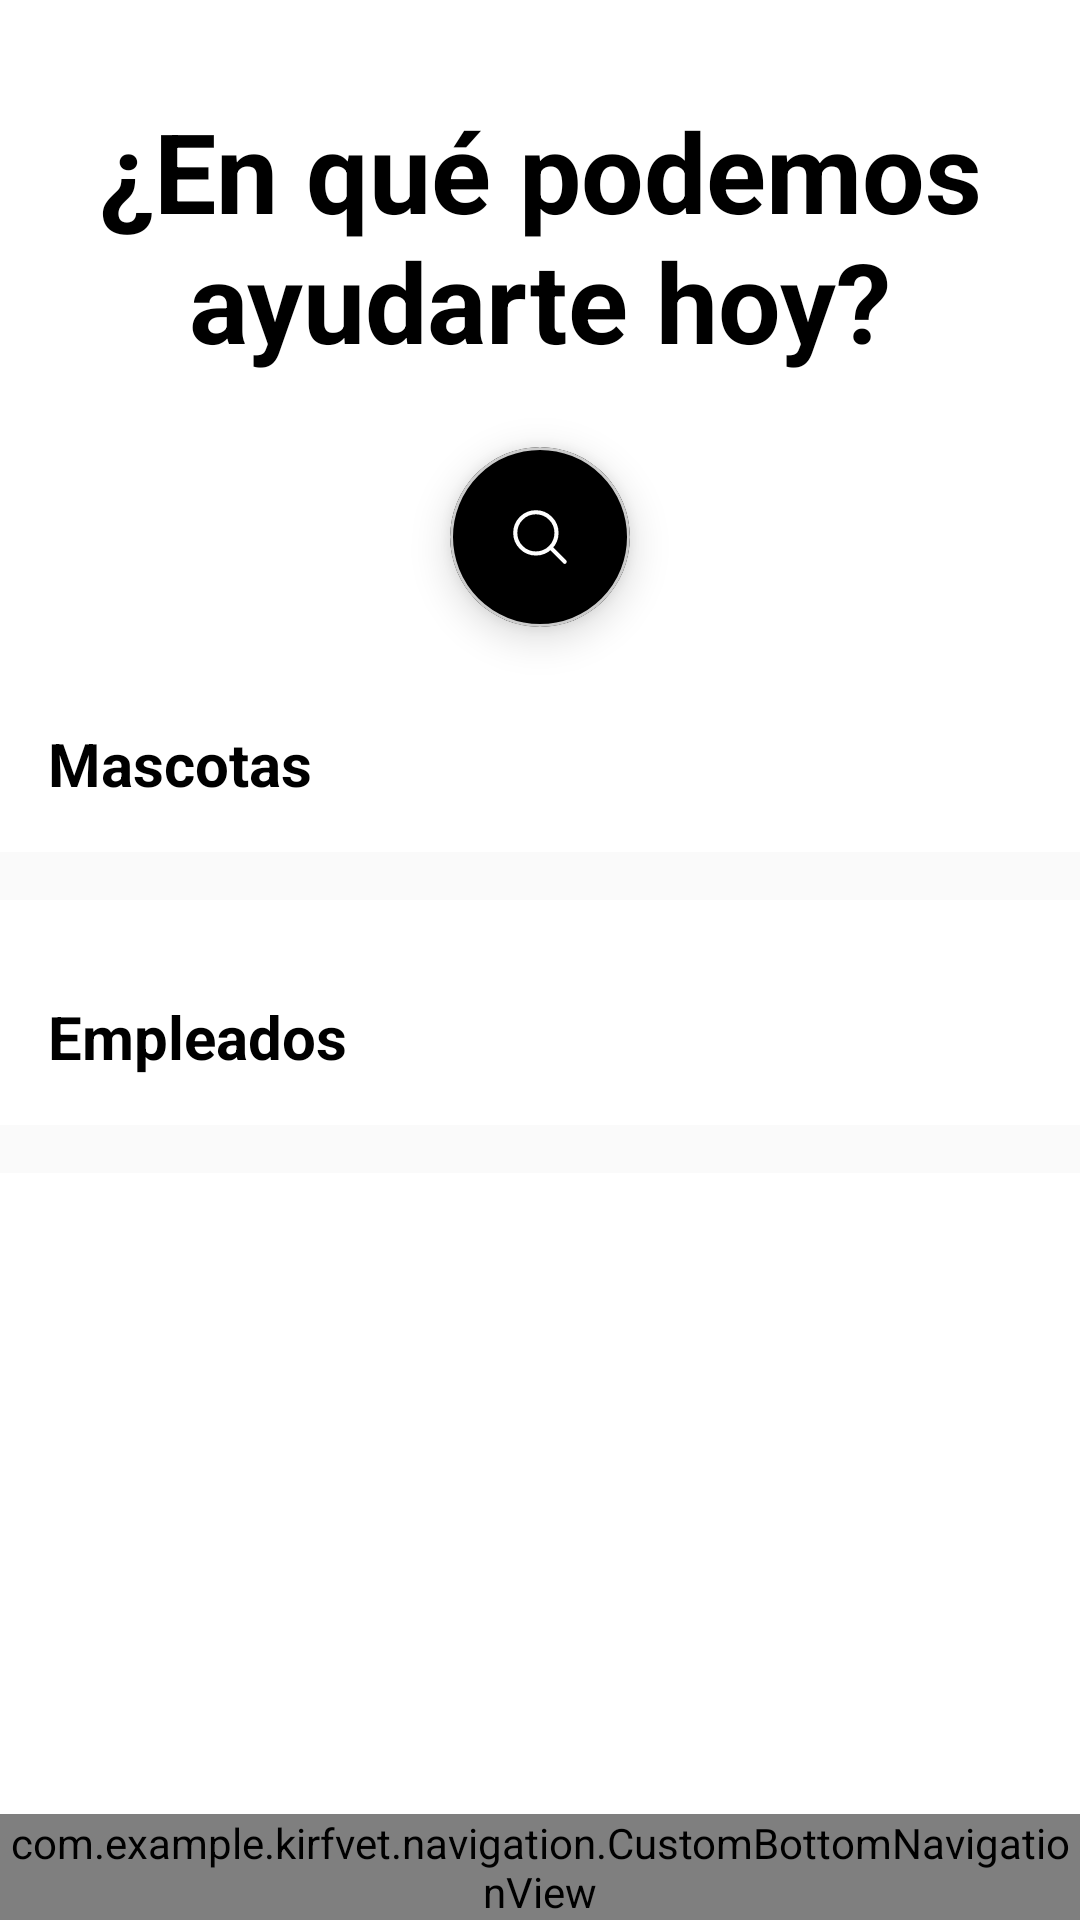

Where icons sit on this 1080 × 1920 app screen, as (x1=x1, y1=y1, x2=x2, y2=y2):
search: (x1=513, y1=510, x2=567, y2=564)
